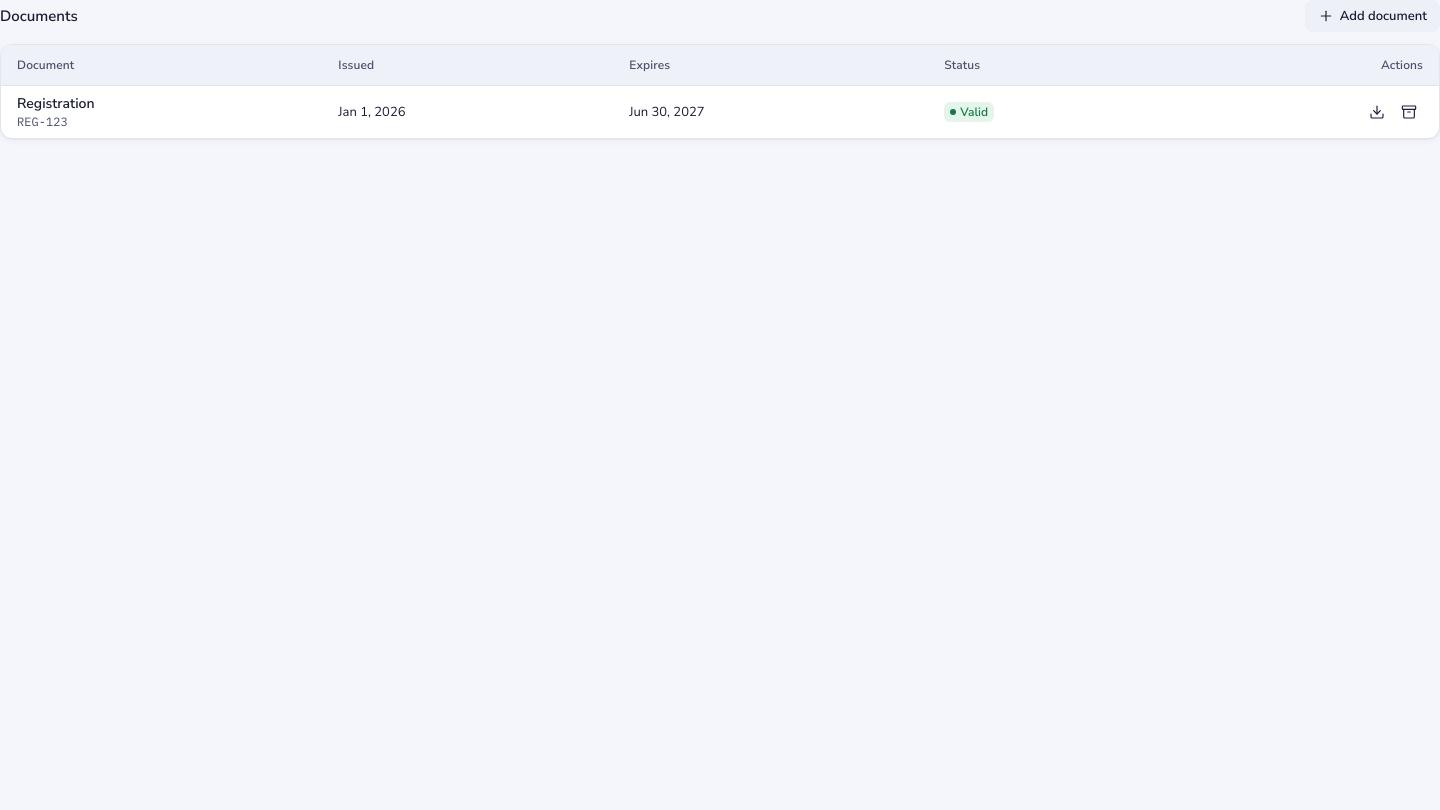
Test case: DocumentsSection › refetches after a failed archive too, and closes with a toast when the vehicle was archived meanwhile
Click the button named "Archive Registration REG-123": (1409, 112) [1395,98,1423,126]
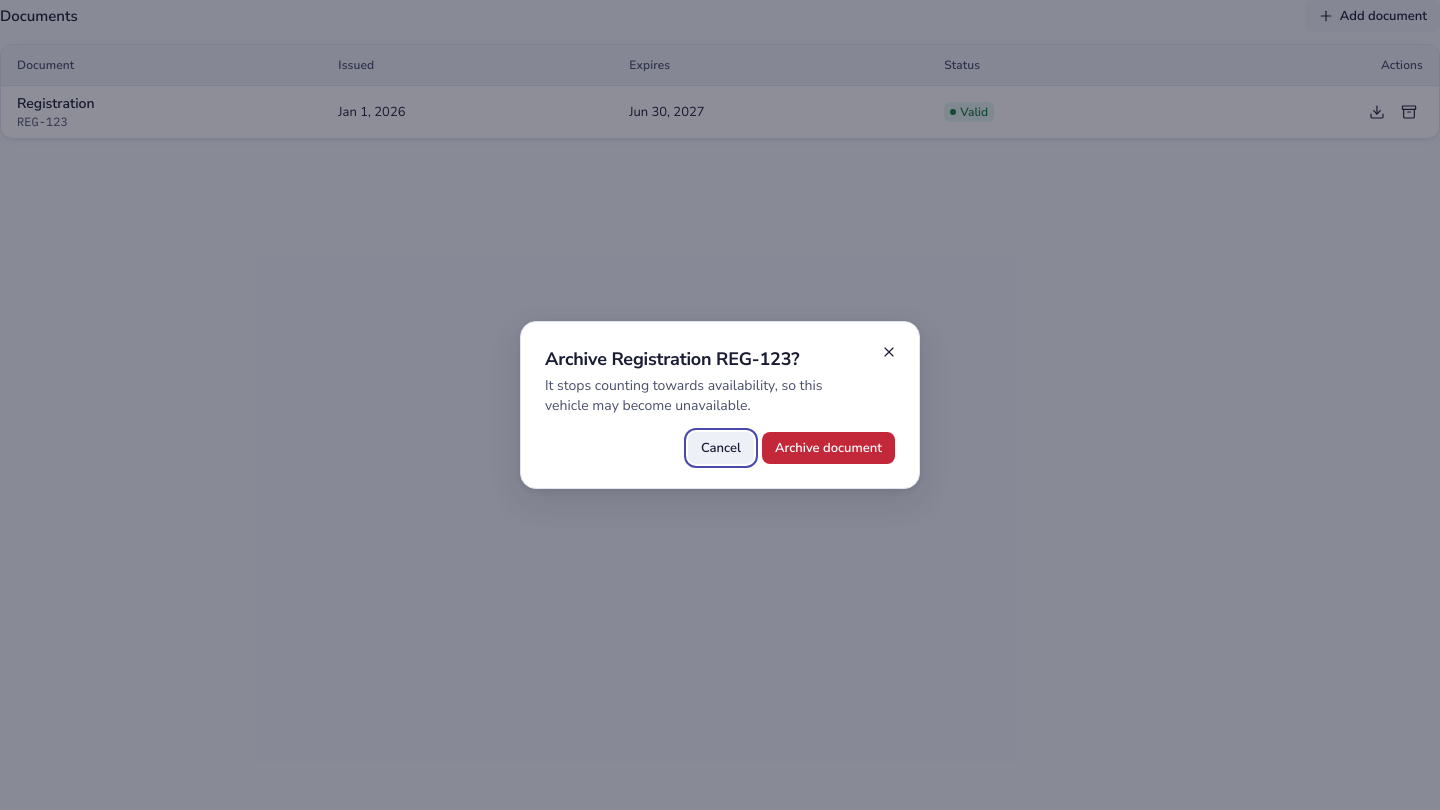
Click the button "Archive document": (828, 448) [762,432,895,464]
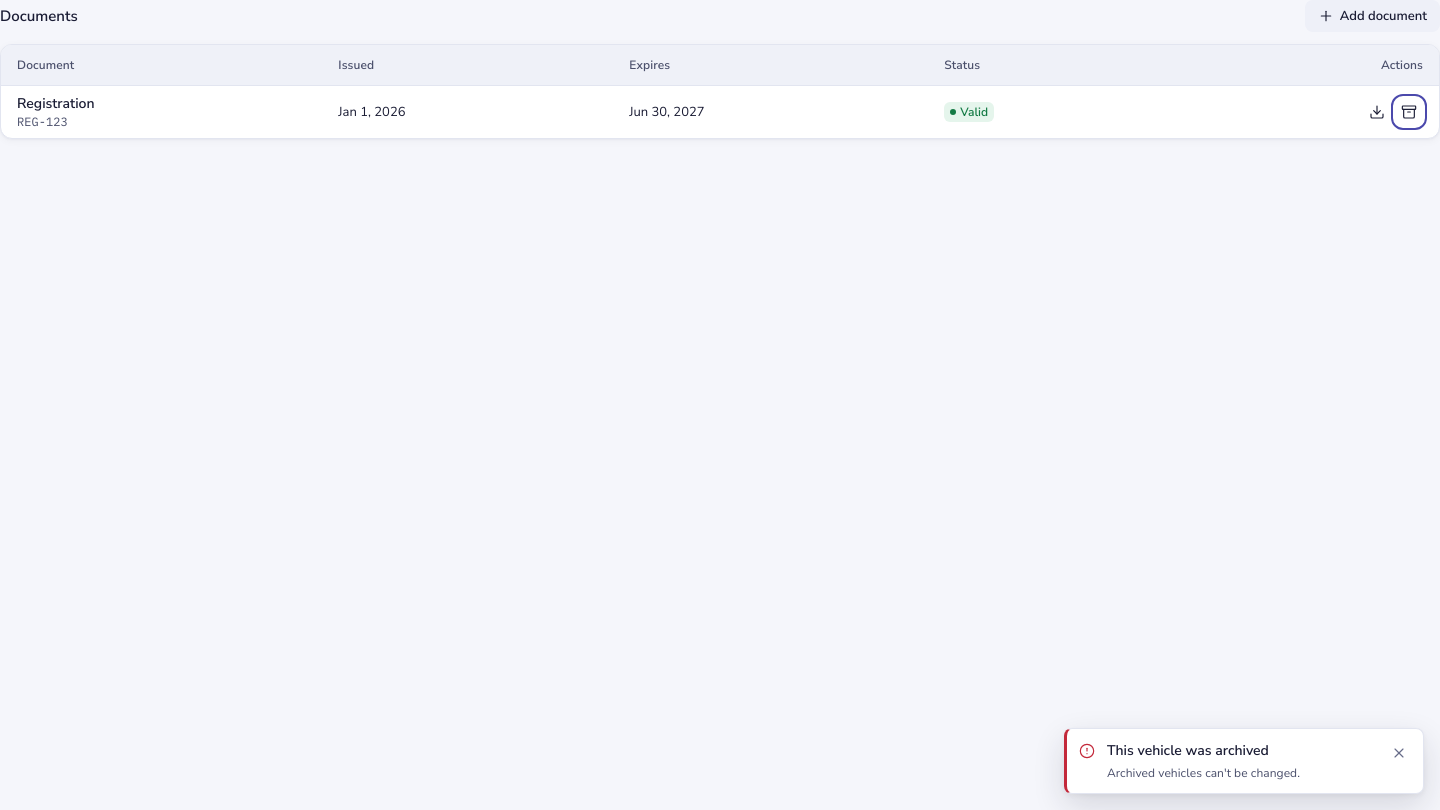
Expected: the text "This vehicle was archived" is shown, [1107,741,1269,760]
Expected: the dialog is gone
